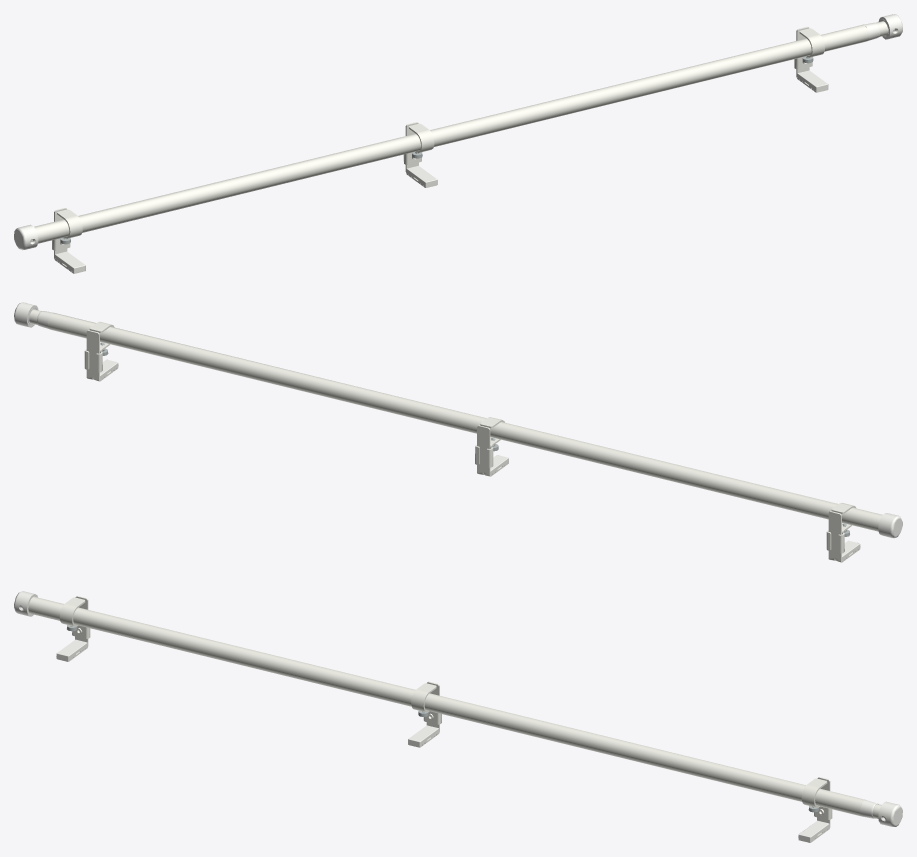
File: bekrafta_komplet_karniszy_30489536.glb
3 views of the same model, one above another, from view 1: azimuth 30°, elevation 25°; view 2: azimuth 150°, elevation 25°; view 3: azimuth 330°, elevation 25° (orthographic).
Visible parts, largest first — view 1: bekrafta_komplet_karniszy_30489536; view 2: bekrafta_komplet_karniszy_30489536; view 3: bekrafta_komplet_karniszy_30489536.
Boxes of the visible parts, box(x1,y1,x2,y2) form: bekrafta_komplet_karniszy_30489536: box(14, 14, 902, 273); bekrafta_komplet_karniszy_30489536: box(14, 302, 902, 562); bekrafta_komplet_karniszy_30489536: box(14, 591, 902, 842).
Size of the model in its own units: 1.13 by 0.061 by 0.046.
Materials: 1 (1 with a texture image).
